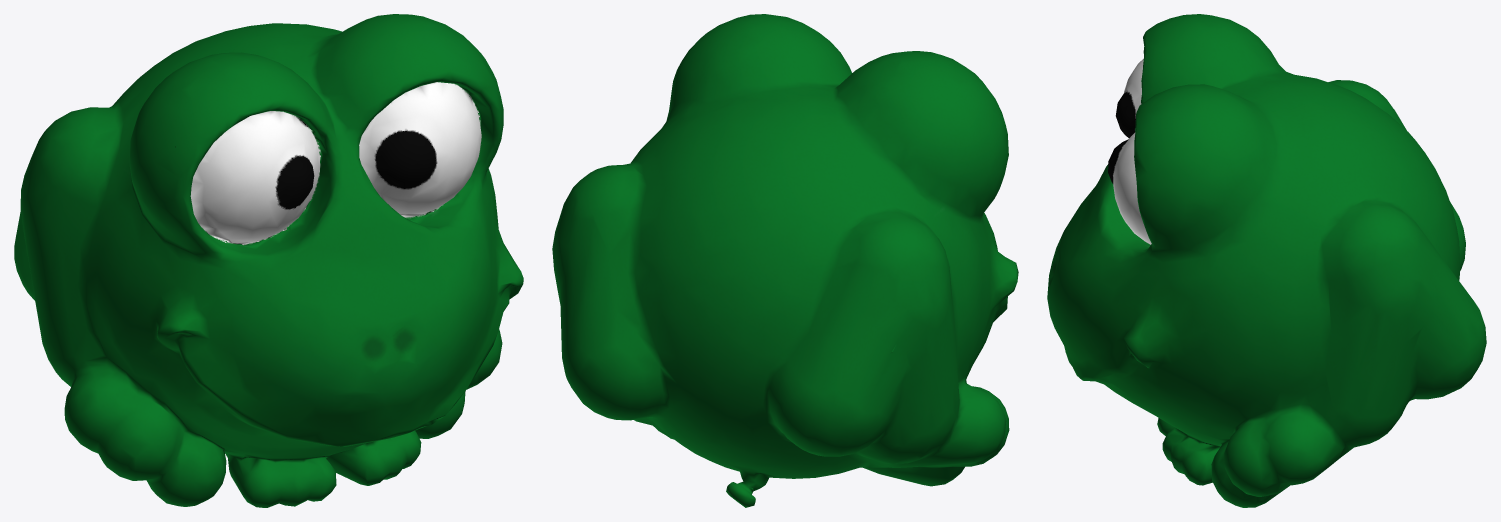
File: smeerws_2018-03-04_12-55-20frog.fbx
The picture shows the model from 3 angles, left to right: view 1: azimuth 30°, elevation 25°; view 2: azimuth 150°, elevation 25°; view 3: azimuth 270°, elevation 25°; orthographic projection. The views are drawn at different scales.
Visible parts, largest first — view 1: Layer_1; view 2: Layer_1; view 3: Layer_1.
Part boxes in pixels (bbox=[...]): Layer_1: bbox=[14, 14, 523, 507]; Layer_1: bbox=[552, 14, 1018, 507]; Layer_1: bbox=[1047, 14, 1486, 507].
Size of the model in its own units: 0.6916 by 0.693 by 0.6779.
